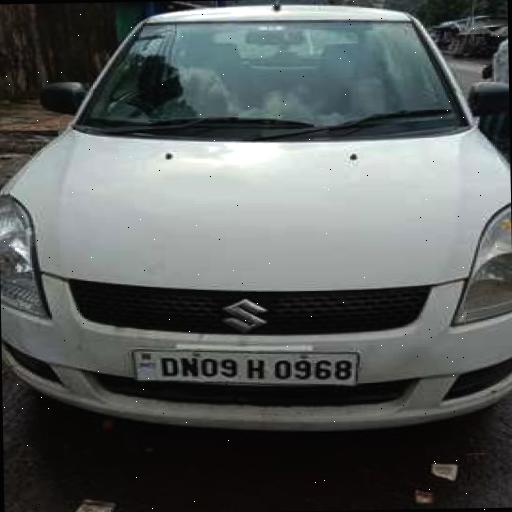license_plate`: (134, 345, 356, 387)
